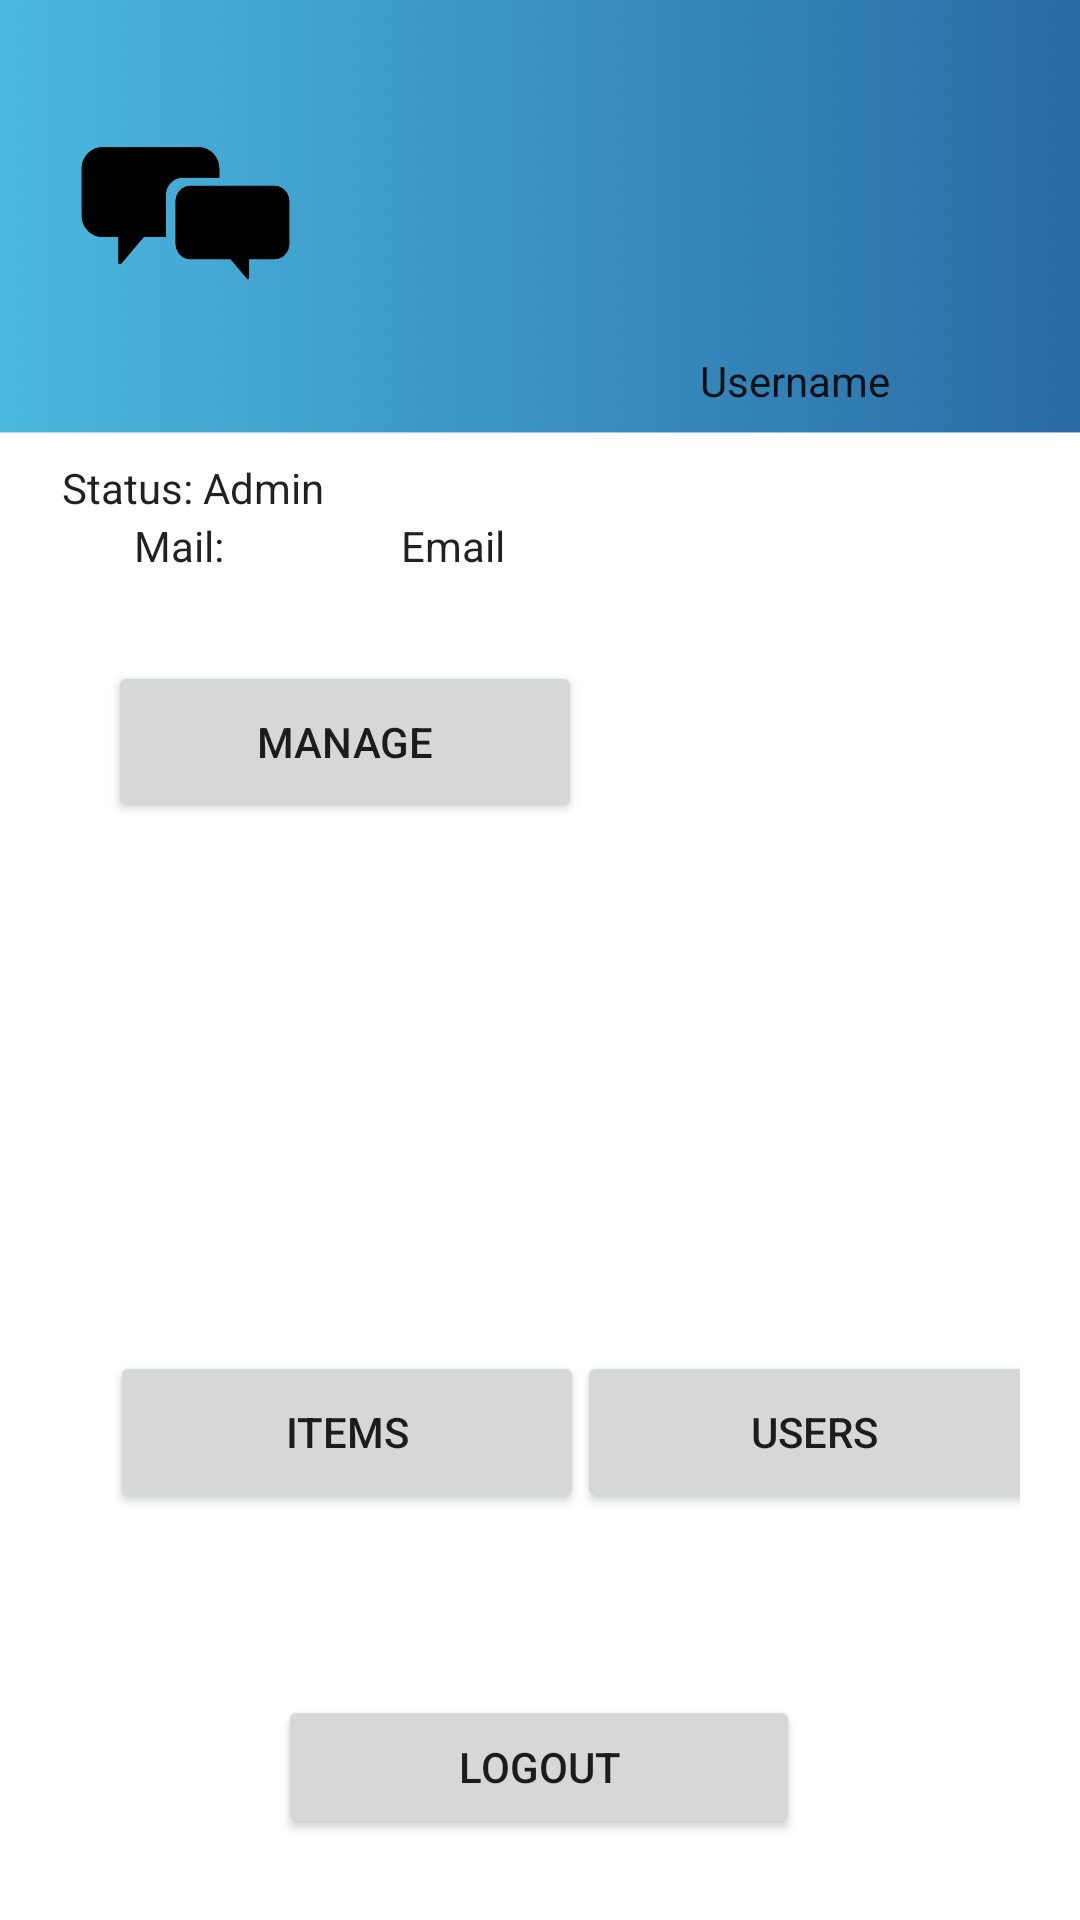

Named icons in this screenshot (1080*1920) and their bounding boxes, (x1, y1, x2, y2):
chat: (81, 147, 290, 280)
